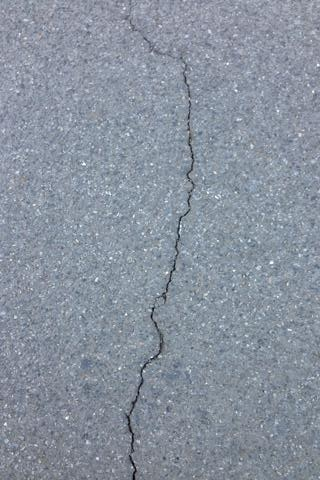A: (116, 14, 200, 480)
